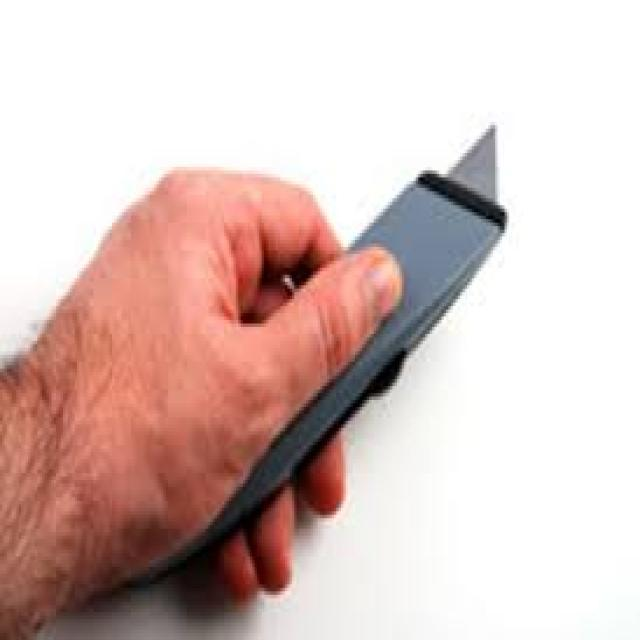cutter: (160, 112, 510, 578)
